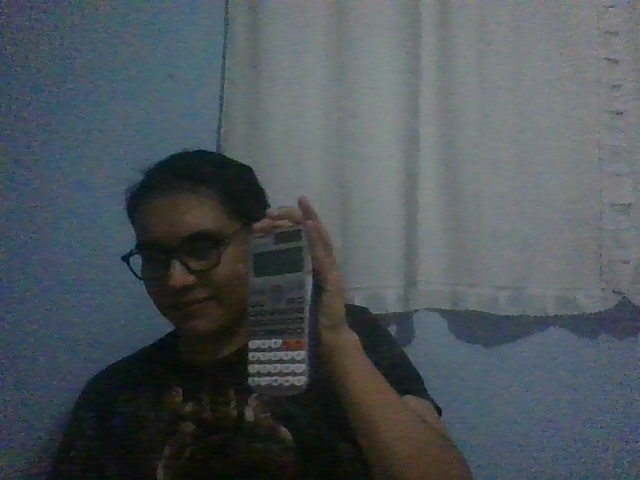calculadora: (246, 225, 315, 397)
